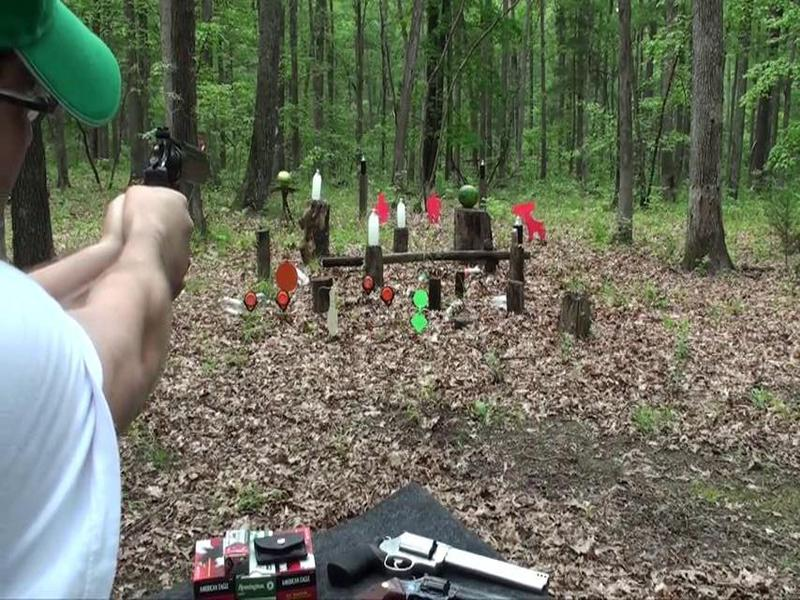Revolver: (135, 121, 231, 222)
